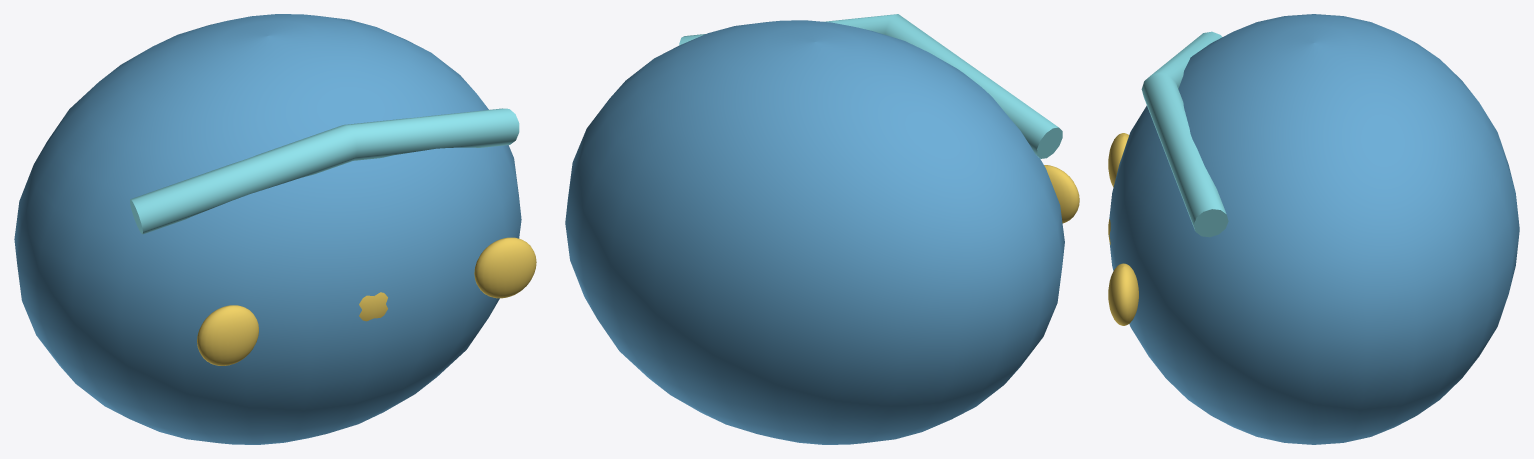
File: familiar_dragon_Body.glb
3 renders of one model, left to right at view 1: azimuth 30°, elevation 25°; view 2: azimuth 150°, elevation 25°; view 3: azimuth 270°, elevation 25°, orthographic. The views are drawn at different scales.
Bounding box in the file's own units: 10 × 8 × 8.
